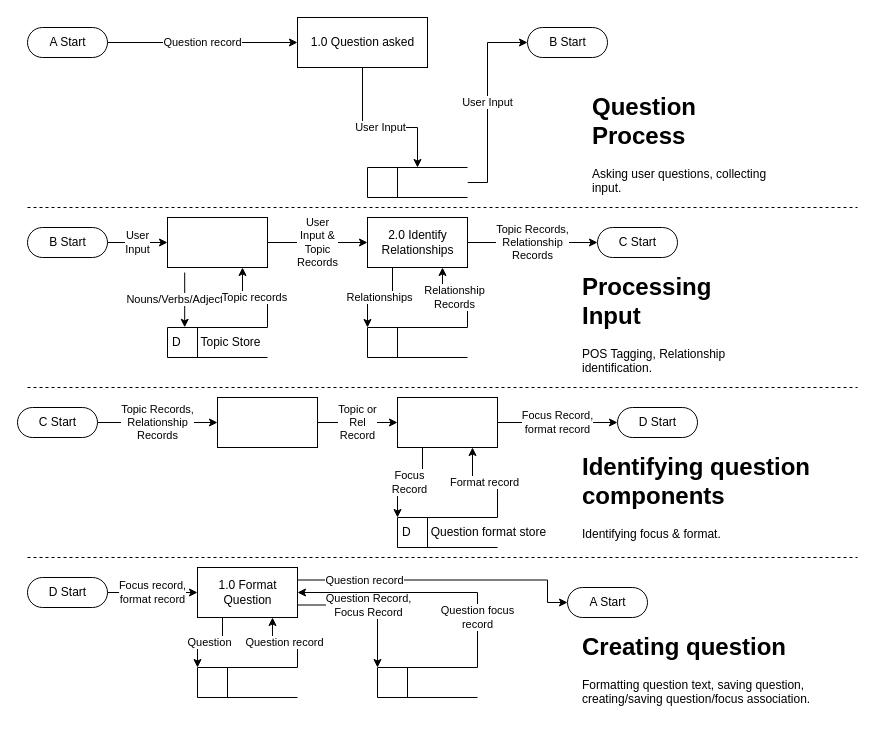
Image size: 876x755. Some labels were removed from this diagram. Here are the shapes that lost their labels. From the top down, the centre of each, then its label:
point 417,182: D Answer Store
point 217,242: 1.0 POS Tag
point 417,342: D Relationship Store
point 267,422: 1.0 Identify Next question focus.
point 447,422: 2.0 Identify question format
point 247,682: D Question Store
point 427,682: D Question Focus Store
